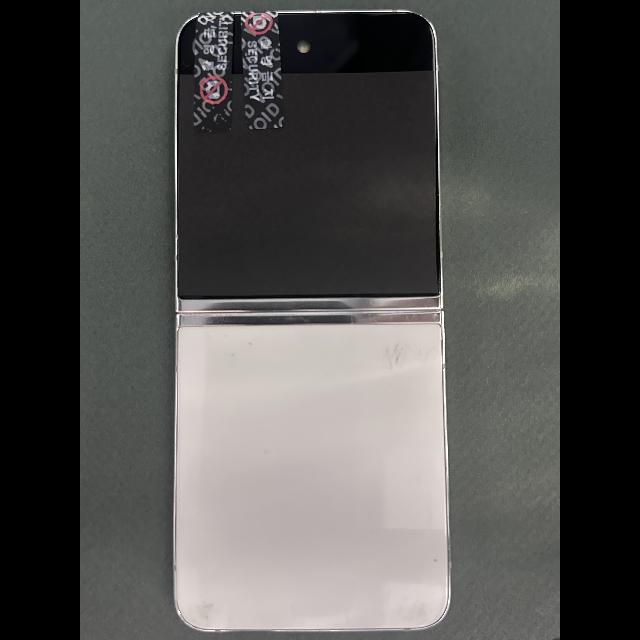phone: (173, 9, 452, 632)
sticker: (240, 10, 285, 131), (193, 12, 234, 133)
